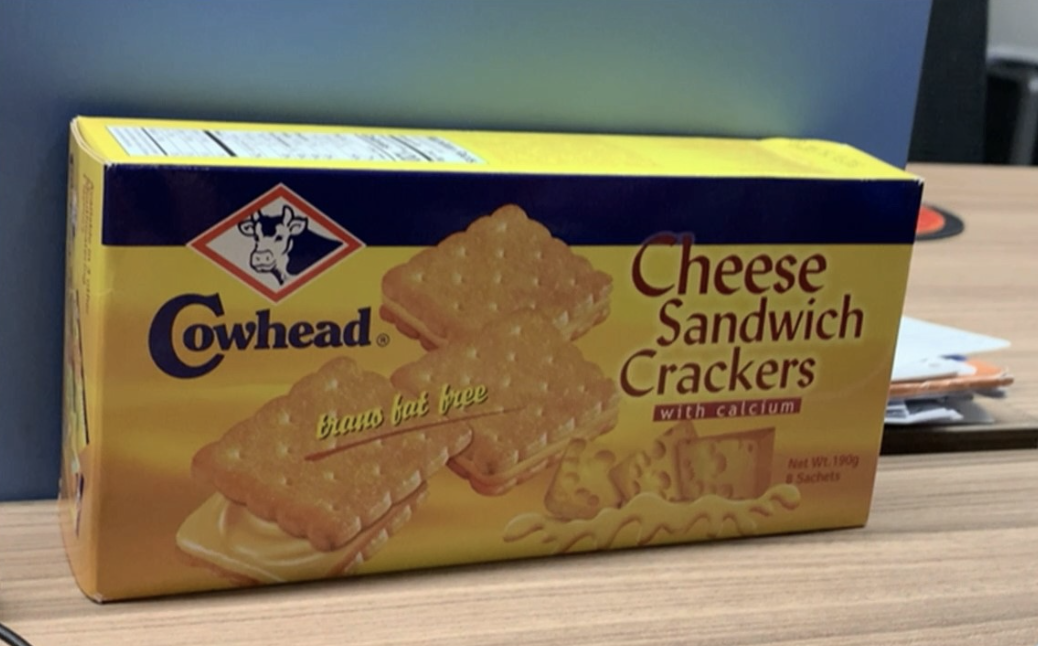crackers_150g: (147, 193, 870, 519)
